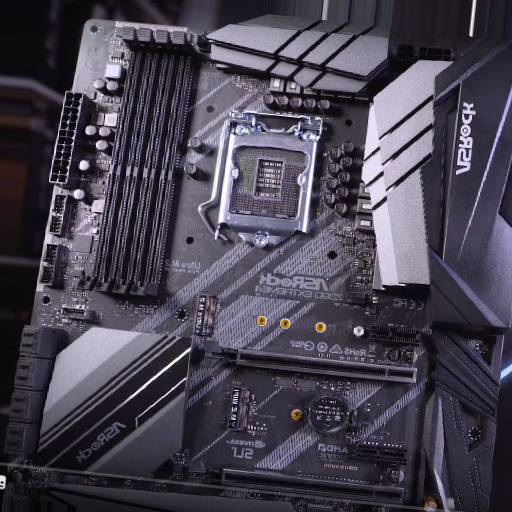CPU: (218, 122, 320, 247)
GPU: (184, 458, 405, 507), (199, 337, 418, 385)
MOTHERBOARD: (11, 17, 504, 506)
RAM: (82, 28, 192, 295)
SSD: (192, 293, 221, 337), (228, 384, 254, 432)
